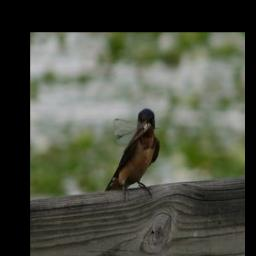Swallow: (104, 107, 159, 203)
